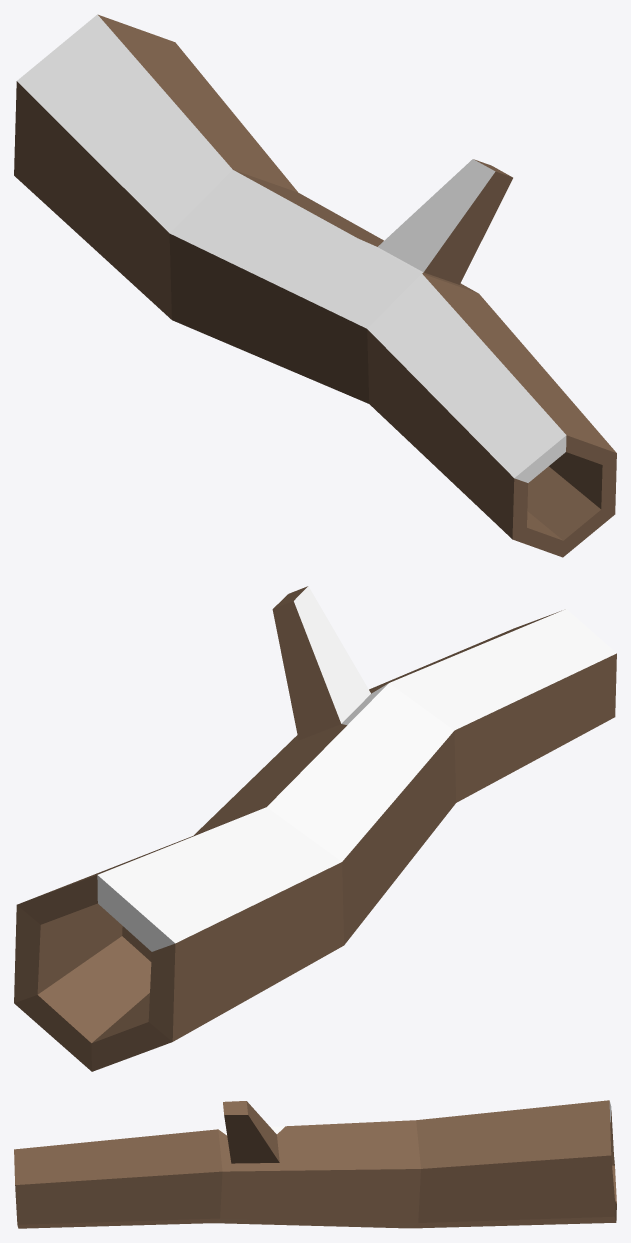
Rendered from Log 2.fbx.
3 renders of one model, top to bottom at view 1: azimuth 30°, elevation 25°; view 2: azimuth 150°, elevation 25°; view 3: azimuth 270°, elevation 25°, orthographic. The views are drawn at different scales.
Visible parts, largest first — view 1: Log 2; view 2: Log 2; view 3: Log 2.
Part boxes in pixels (x1,y1,x2,y2): Log 2: (14,14,616,557); Log 2: (14,586,616,1071); Log 2: (14,1100,616,1228).
Size of the model in its own units: 51.71 by 62.93 by 214.
1 material, 1 textured.
